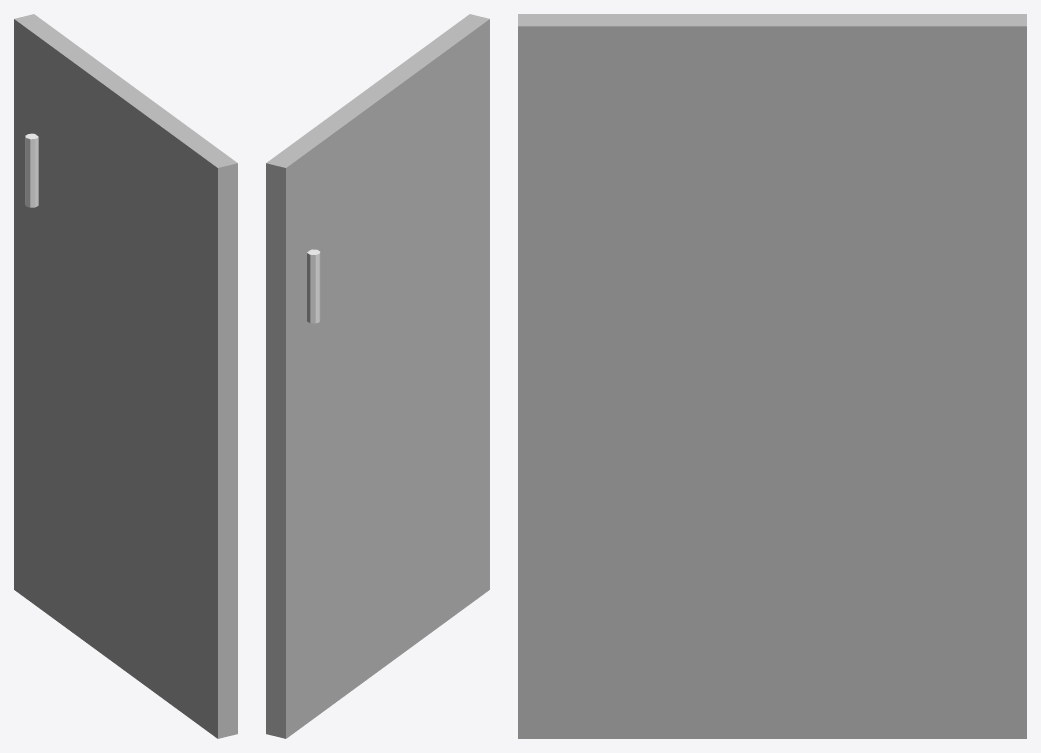
Rendered from Cabinet_cce6eb3e.obj.
The picture shows the model from 3 angles, left to right: view 1: azimuth 30°, elevation 25°; view 2: azimuth 150°, elevation 25°; view 3: azimuth 270°, elevation 25°; orthographic projection. The views are drawn at different scales.
Parts seen in each view (by area): view 1: FP405:Door1_37b8595d; view 2: FP405:Door1_37b8595d; view 3: FP405:Door1_37b8595d.
Part boxes in pixels (box(x1,y1,x2,y2)): FP405:Door1_37b8595d: box(14, 14, 237, 738); FP405:Door1_37b8595d: box(266, 14, 489, 738); FP405:Door1_37b8595d: box(518, 14, 1026, 738).
Size of the model in its own units: 0.0378 by 0.6677 by 0.4321.
